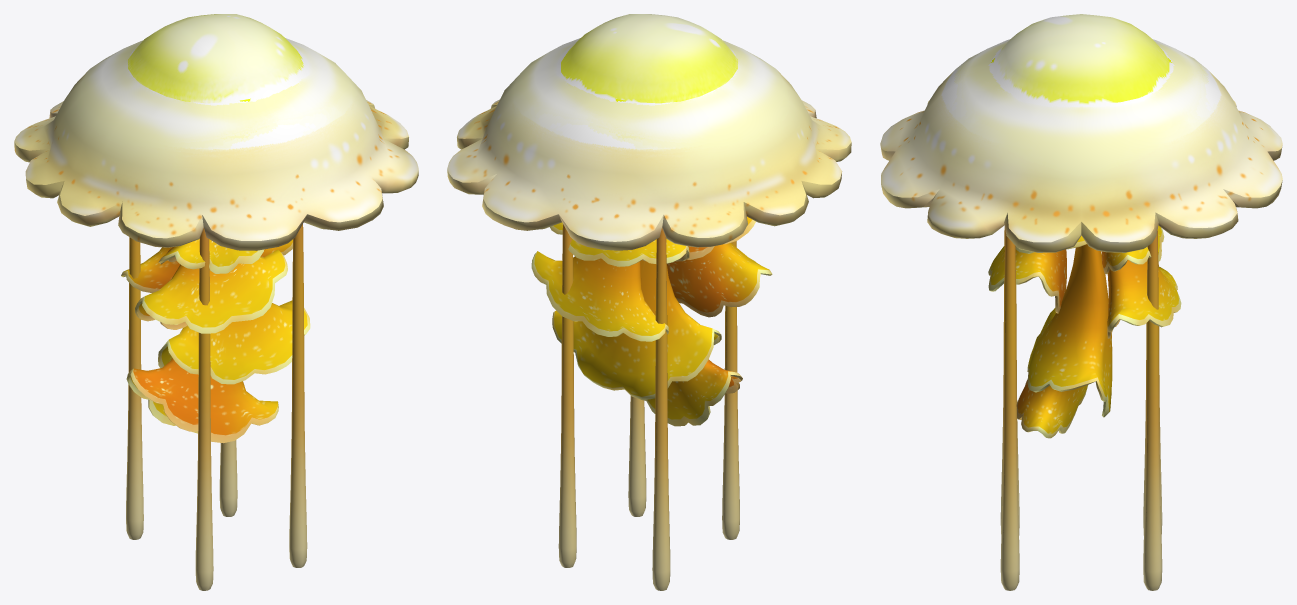
Rendered from 神奇科普站-水母-荷包蛋水母.FBX.
The picture shows the model from 3 angles, left to right: view 1: azimuth 30°, elevation 25°; view 2: azimuth 150°, elevation 25°; view 3: azimuth 270°, elevation 25°; orthographic projection. The views are drawn at different scales.
Visible parts, largest first — view 1: 神奇科普站-水母-荷包蛋水母; view 2: 神奇科普站-水母-荷包蛋水母; view 3: 神奇科普站-水母-荷包蛋水母.
Part boxes in pixels (x1,y1,x2,y2): 神奇科普站-水母-荷包蛋水母: (14,14,418,590); 神奇科普站-水母-荷包蛋水母: (447,14,851,590); 神奇科普站-水母-荷包蛋水母: (880,14,1282,590).
Bounding box in the file's own units: 106 × 159 × 107.
2 materials, 2 textured.
